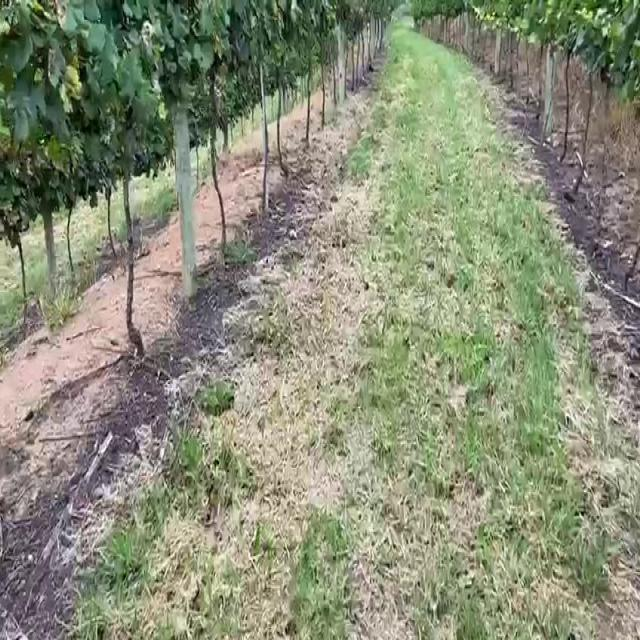tree trunk: (123, 127, 143, 356), (174, 105, 196, 300), (41, 199, 56, 296)
